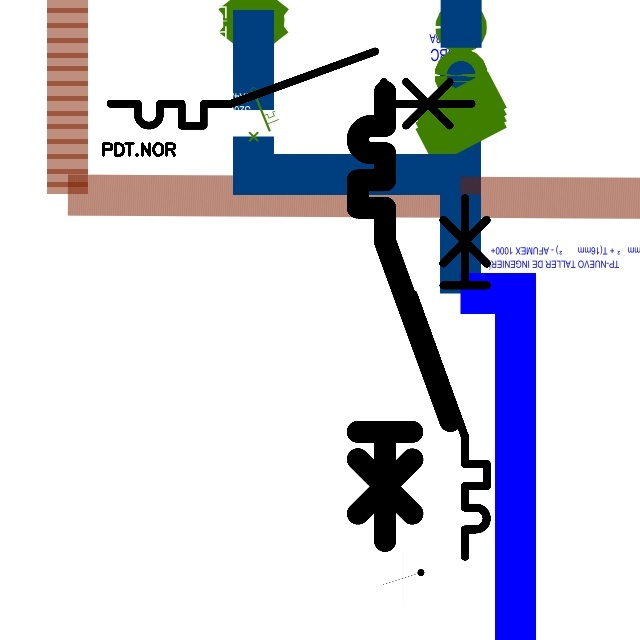interruptor_termomagnetico: (346, 80, 461, 552), (101, 42, 481, 135), (404, 189, 496, 566)
